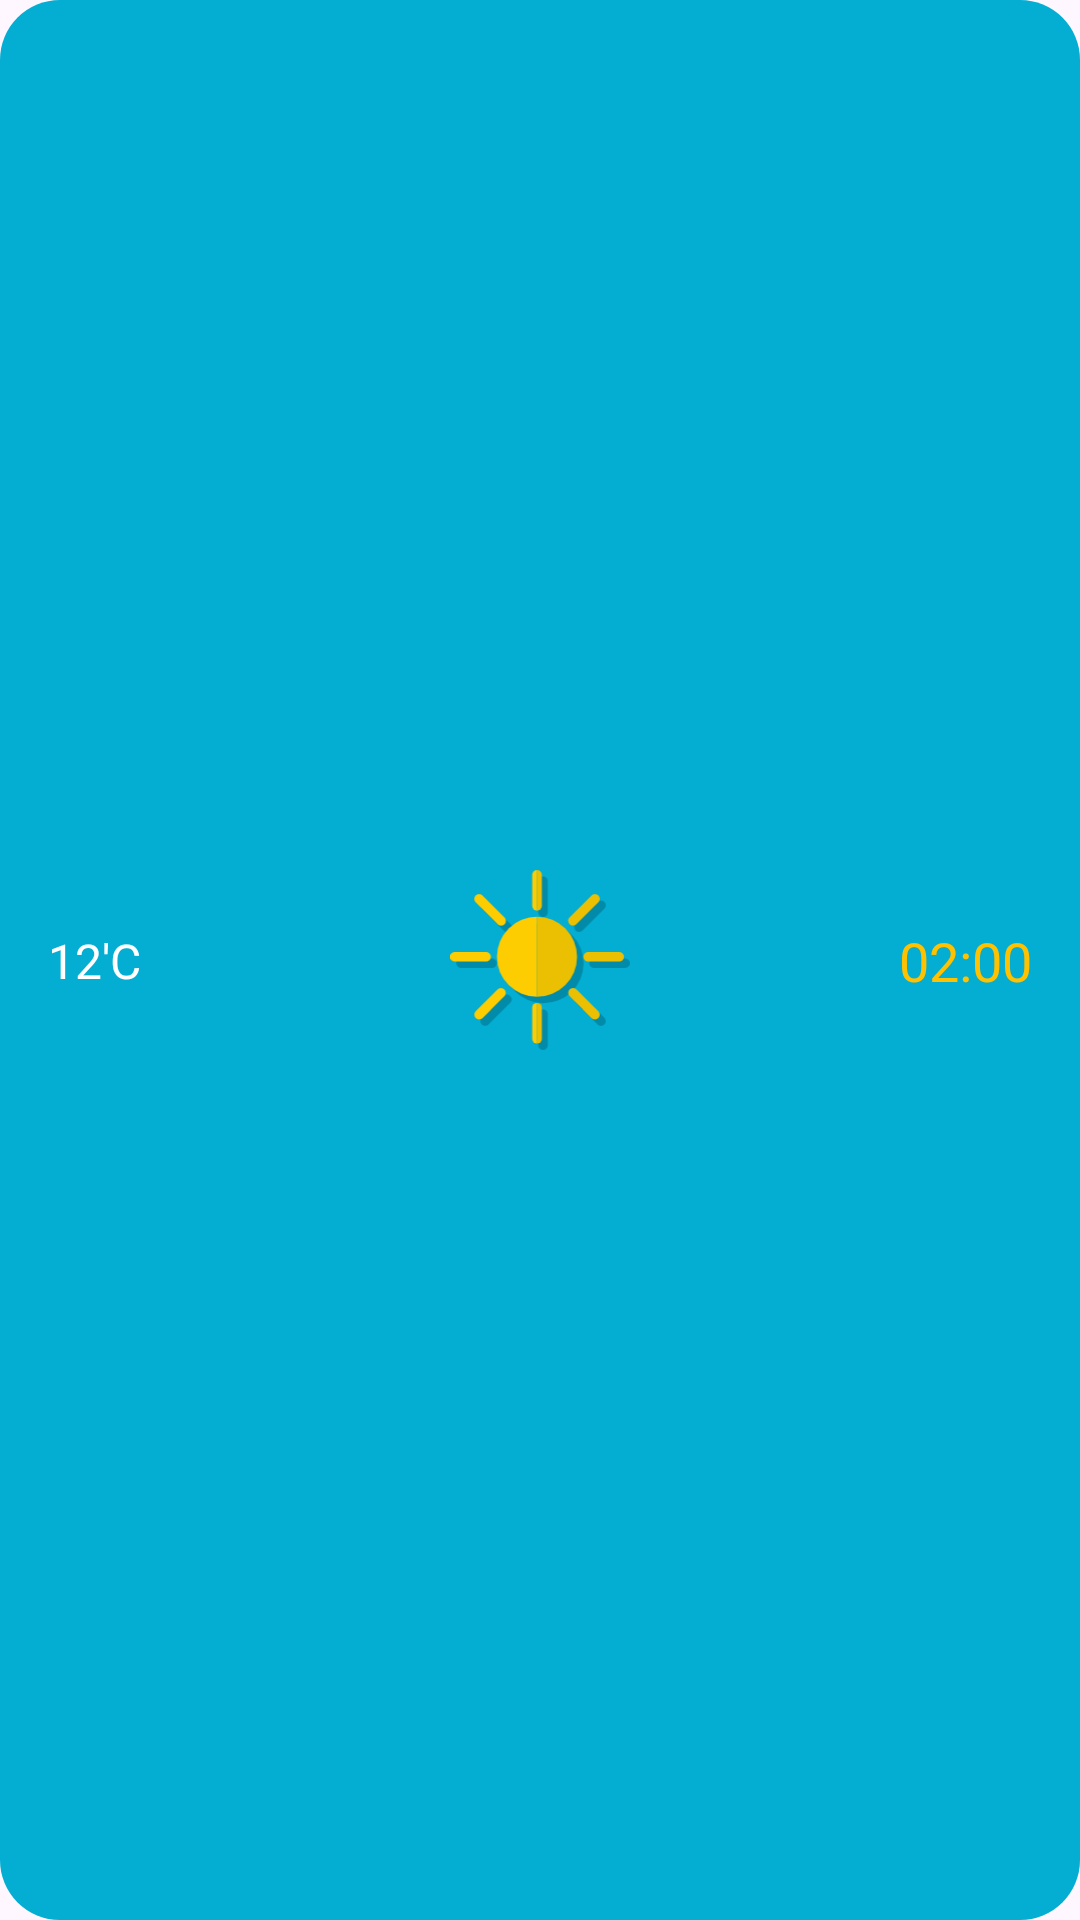

Icon bounding boxes for this 1080 x 1920 phone screenshot, format (x1, y1, x2, y2):
sunny: (450, 870, 630, 1050)
